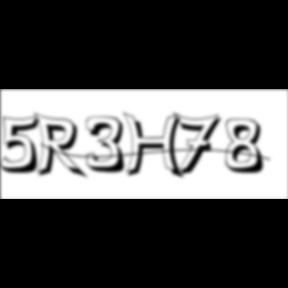3: (86, 116, 132, 176)
5: (0, 114, 46, 176)
7: (172, 111, 228, 179)
8: (226, 117, 270, 176)
H: (123, 112, 189, 182)
R: (34, 112, 92, 182)
